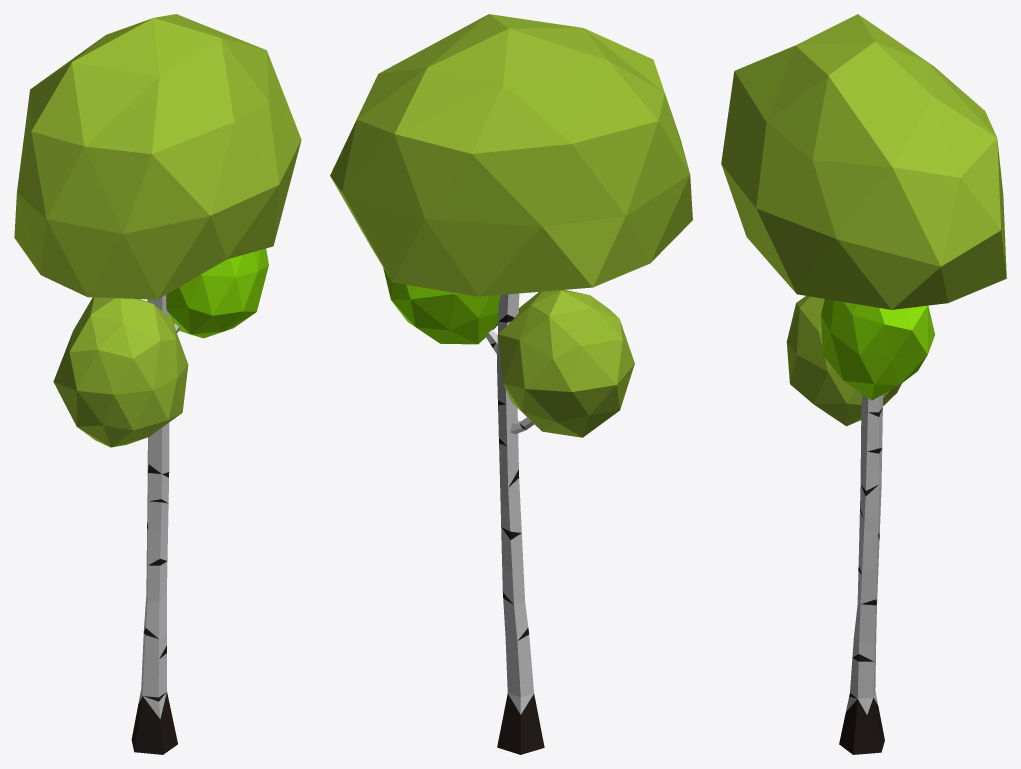
The model's file is Birch1.fbx.
3 renders of one model, left to right at view 1: azimuth 30°, elevation 25°; view 2: azimuth 150°, elevation 25°; view 3: azimuth 270°, elevation 25°, orthographic. The views are drawn at different scales.
Visible parts, largest first — view 1: Icosphere, Icosphere.002, Cylinder, Icosphere.001; view 2: Icosphere, Icosphere.002, Cylinder, Icosphere.001; view 3: Icosphere, Cylinder, Icosphere.001, Icosphere.002.
Boxes of the visible parts, x1,y1,x2,y2 form: Icosphere: [14, 14, 301, 299]; Icosphere.002: [53, 297, 188, 447]; Cylinder: [131, 295, 177, 754]; Icosphere.001: [166, 248, 268, 338]; Icosphere: [330, 14, 692, 296]; Icosphere.002: [498, 290, 634, 437]; Cylinder: [497, 293, 544, 754]; Icosphere.001: [383, 267, 500, 344]; Icosphere: [721, 14, 1006, 309]; Cylinder: [839, 394, 884, 754]; Icosphere.001: [821, 299, 935, 400]; Icosphere.002: [786, 296, 901, 426].
Size of the model in its own units: 594 by 1410 by 516.
